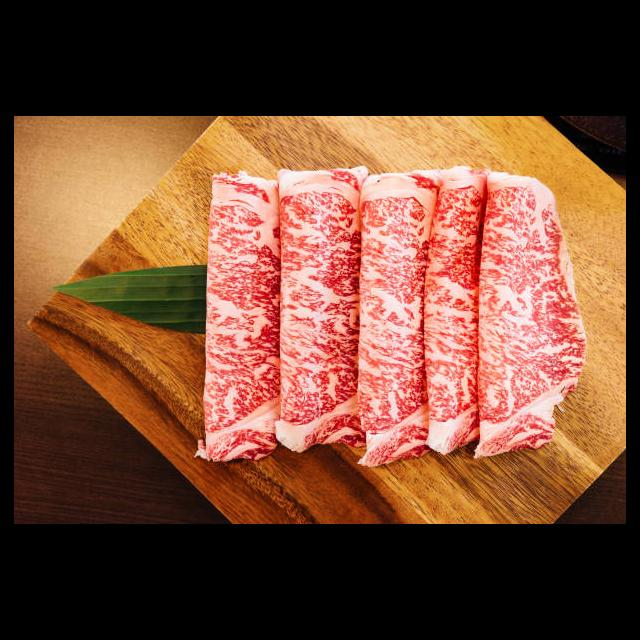beef: (479, 172, 584, 458), (279, 165, 369, 455), (200, 164, 280, 463), (359, 173, 428, 468), (423, 168, 479, 461)
